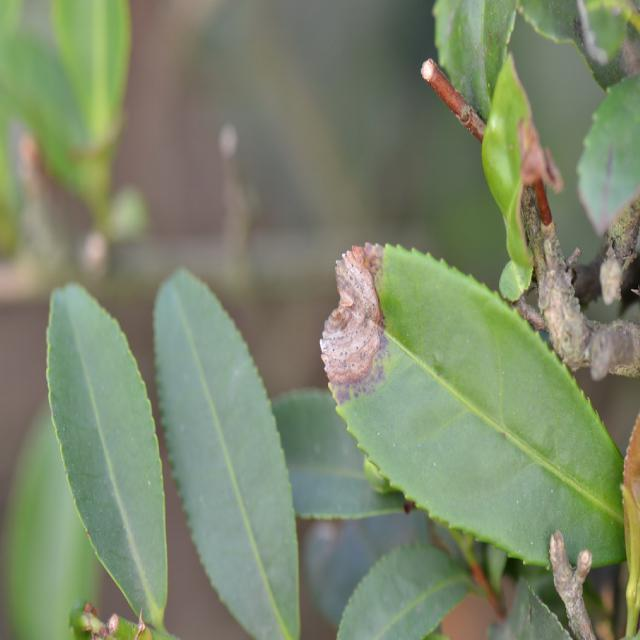Tea cloud leaf blight: (306, 235, 406, 398)
